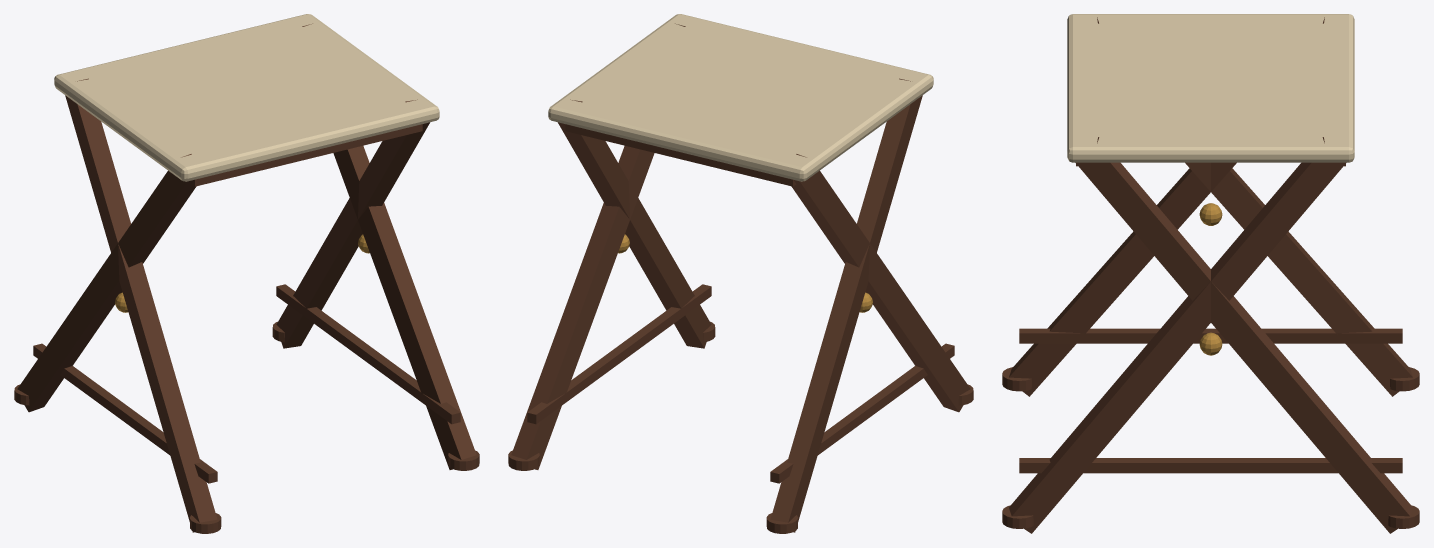
The model's file is 18_folding_stool.fbx.
The picture shows the model from 3 angles, left to right: view 1: azimuth 30°, elevation 25°; view 2: azimuth 150°, elevation 25°; view 3: azimuth 270°, elevation 25°; orthographic projection. The views are drawn at different scales.
Parts seen in each view (by area): view 1: Seat, LegFL, LegFR, LegBL, LegBR, SpreadR, SpreadL, RailB; view 2: Seat, LegBL, LegBR, LegFL, LegFR, SpreadR, SpreadL, RailF; view 3: Seat, LegBR, LegFR, LegBL, LegFL, SpreadR, SpreadL.
Part boxes in pixels (x1,y1,x2,y2): Seat: [54, 14, 439, 181]; LegFL: [65, 78, 217, 532]; LegFR: [302, 23, 476, 469]; LegBL: [17, 154, 196, 412]; LegBR: [276, 99, 429, 348]; SpreadR: [276, 284, 460, 424]; SpreadL: [33, 343, 217, 483]; RailB: [191, 124, 422, 186]; Seat: [548, 14, 933, 181]; LegBL: [770, 78, 922, 532]; LegBR: [511, 23, 685, 469]; LegFL: [791, 154, 970, 412]; LegFR: [558, 99, 711, 348]; SpreadR: [527, 284, 711, 424]; SpreadL: [770, 343, 954, 483]; RailF: [565, 124, 796, 186]; Seat: [1067, 14, 1354, 162]; LegBR: [1075, 137, 1412, 533]; LegFR: [1009, 137, 1346, 533]; LegBL: [1097, 17, 1412, 396]; LegFL: [1009, 17, 1324, 396]; SpreadR: [1019, 458, 1402, 473]; SpreadL: [1019, 328, 1402, 343].
Size of the model in its own units: 0.376 by 0.4393 by 0.436.
